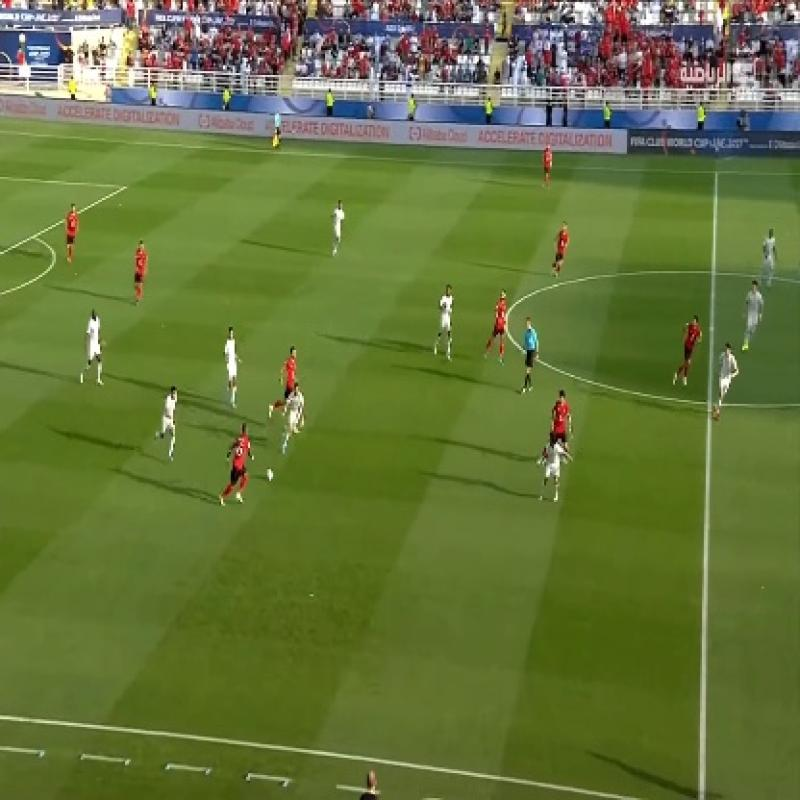10: (22, 223, 40, 244)
13: (708, 160, 724, 180)
14: (702, 258, 725, 284)
15: (696, 382, 723, 422)
9: (113, 175, 131, 196)
c: (495, 304, 519, 330)
